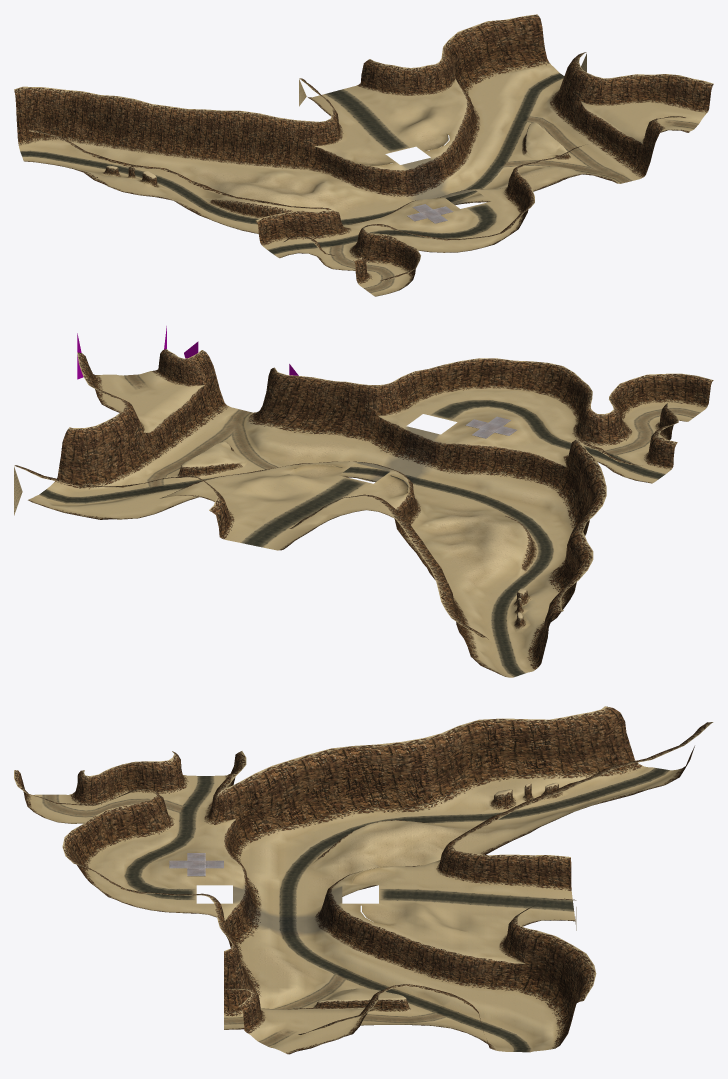
Rendered from Mission8_Zone01.glb.
3 renders of one model, top to bottom at view 1: azimuth 30°, elevation 25°; view 2: azimuth 150°, elevation 25°; view 3: azimuth 270°, elevation 25°, orthographic. The views are drawn at different scales.
Visible parts, largest first — view 1: MISSION8_ZONE01681, MISSION8_ZONE01647, MISSION8_ZONE01715, MISSION8_ZONE01747, MISSION8_ZONE01819, MISSION8_ZONE01873, MISSION8_ZONE01853, MISSION8_ZONE01610, MISSION8_ZONE01868, MISSION8_ZONE01818, MISSION8_ZONE01872, MISSION8_ZONE01845 (+18 smaller); view 2: MISSION8_ZONE01168, MISSION8_ZONE01631, MISSION8_ZONE01205, MISSION8_ZONE01667, MISSION8_ZONE01204, MISSION8_ZONE01169, MISSION8_ZONE01056, MISSION8_ZONE01206, MISSION8_ZONE01192, MISSION8_ZONE01001, MISSION8_ZONE01170, MISSION8_ZONE01191 (+3 smaller); view 3: MISSION8_ZONE01394, MISSION8_ZONE01530, MISSION8_ZONE01636, MISSION8_ZONE01670, MISSION8_ZONE01284, MISSION8_ZONE01758, MISSION8_ZONE01705, MISSION8_ZONE01320, MISSION8_ZONE01250, MISSION8_ZONE01464, MISSION8_ZONE01839, MISSION8_ZONE01822 (+23 smaller).
Part boxes in pixels (left/top/right/bottom): MISSION8_ZONE01681: left=238, top=114, right=259, bottom=162; MISSION8_ZONE01647: left=256, top=120, right=278, bottom=165; MISSION8_ZONE01715: left=218, top=113, right=241, bottom=160; MISSION8_ZONE01747: left=186, top=112, right=222, bottom=157; MISSION8_ZONE01819: left=511, top=17, right=544, bottom=63; MISSION8_ZONE01873: left=41, top=89, right=64, bottom=137; MISSION8_ZONE01853: left=94, top=104, right=115, bottom=145; MISSION8_ZONE01610: left=273, top=123, right=296, bottom=166; MISSION8_ZONE01868: left=61, top=91, right=96, bottom=135; MISSION8_ZONE01818: left=499, top=24, right=534, bottom=66; MISSION8_ZONE01872: left=23, top=106, right=60, bottom=138; MISSION8_ZONE01845: left=112, top=102, right=133, bottom=148; MISSION8_ZONE01168: left=353, top=385, right=379, bottom=437; MISSION8_ZONE01631: left=84, top=432, right=115, bottom=482; MISSION8_ZONE01205: left=271, top=376, right=304, bottom=423; MISSION8_ZONE01667: left=66, top=434, right=85, bottom=484; MISSION8_ZONE01204: left=286, top=379, right=316, bottom=431; MISSION8_ZONE01169: left=341, top=382, right=367, bottom=433; MISSION8_ZONE01056: left=445, top=360, right=477, bottom=391; MISSION8_ZONE01206: left=259, top=372, right=286, bottom=421; MISSION8_ZONE01192: left=463, top=441, right=494, bottom=472; MISSION8_ZONE01001: left=681, top=374, right=709, bottom=408; MISSION8_ZONE01170: left=326, top=381, right=352, bottom=421; MISSION8_ZONE01191: left=473, top=445, right=504, bottom=477; MISSION8_ZONE01394: left=336, top=748, right=369, bottom=806; MISSION8_ZONE01530: left=408, top=742, right=439, bottom=803; MISSION8_ZONE01636: left=464, top=728, right=493, bottom=785; MISSION8_ZONE01670: left=482, top=721, right=510, bottom=771; MISSION8_ZONE01284: left=281, top=768, right=312, bottom=826; MISSION8_ZONE01758: left=519, top=933, right=549, bottom=990; MISSION8_ZONE01705: left=505, top=721, right=533, bottom=771; MISSION8_ZONE01320: left=300, top=758, right=331, bottom=817; MISSION8_ZONE01250: left=263, top=774, right=296, bottom=831; MISSION8_ZONE01464: left=364, top=764, right=411, bottom=813; MISSION8_ZONE01839: left=590, top=717, right=624, bottom=772; MISSION8_ZONE01822: left=571, top=712, right=607, bottom=757.
Size of the model in its own units: 344 by 39.76 by 307.
Materials: 28 (27 with a texture image).
